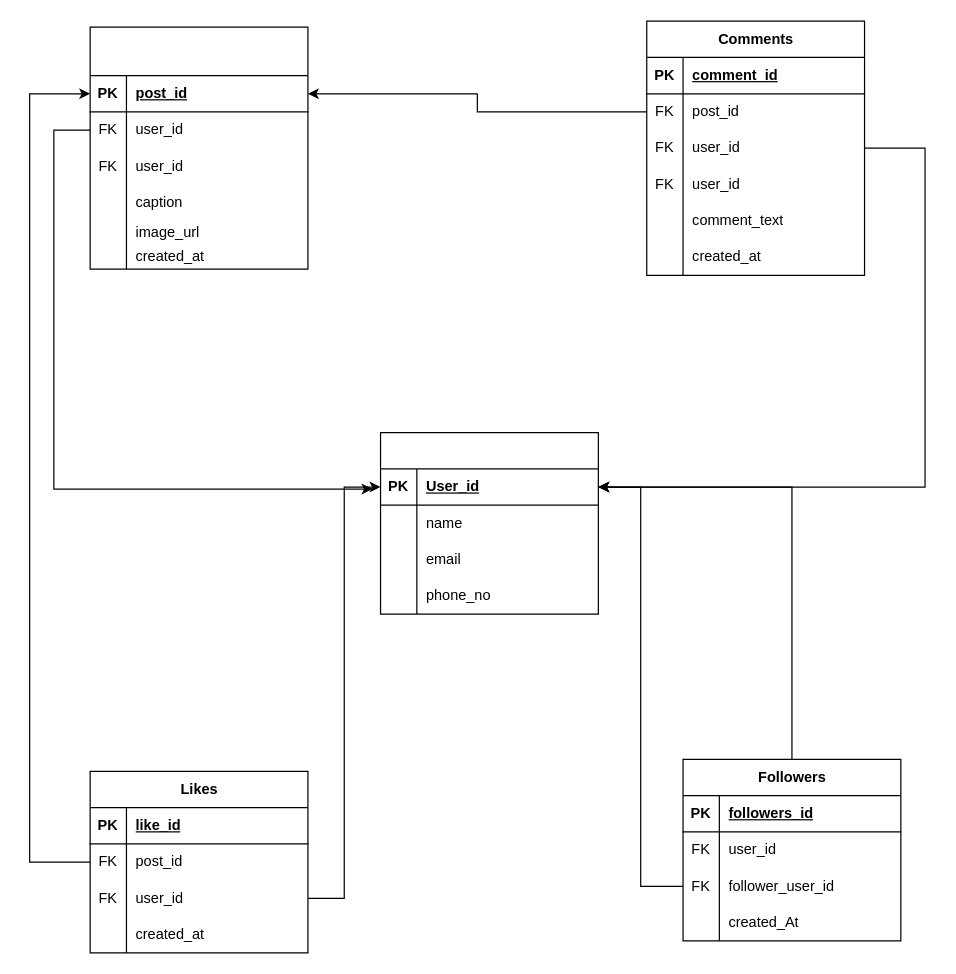
The diagram is 956 pixels wide and 974 high, and some of its shapes have lost their labels. The shapes that lost their labels are listed below. From the top down, each one's box as (x1, y1, x2, y2) in pixels, then its label:
(89, 26, 308, 269): Posts
(379, 431, 598, 614): Users
